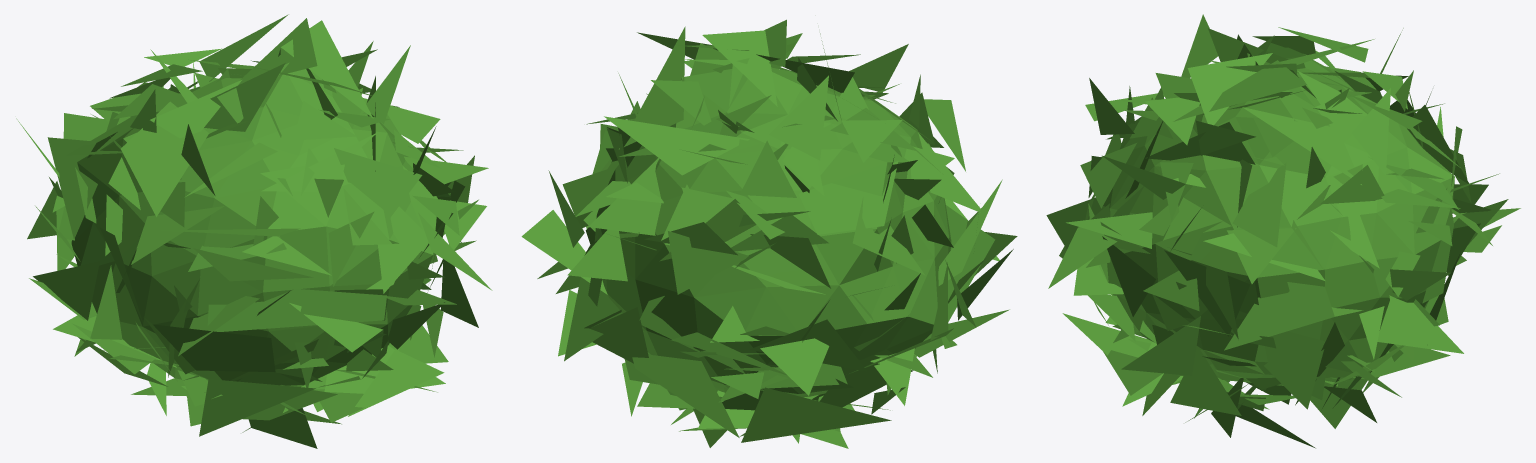
File: Bush 1.fbx
3 views of the same model, side by side, from view 1: azimuth 30°, elevation 25°; view 2: azimuth 150°, elevation 25°; view 3: azimuth 270°, elevation 25° (orthographic). The views are drawn at different scales.
Parts seen in each view (by area): view 1: Bush .002; view 2: Bush .002; view 3: Bush .002.
Boxes of the visible parts, left/top/right/bottom form: Bush .002: left=16, top=14, right=492, bottom=448; Bush .002: left=521, top=19, right=1017, bottom=448; Bush .002: left=1046, top=14, right=1520, bottom=448.
Bounding box in the file's own units: 266 × 250 × 276.
